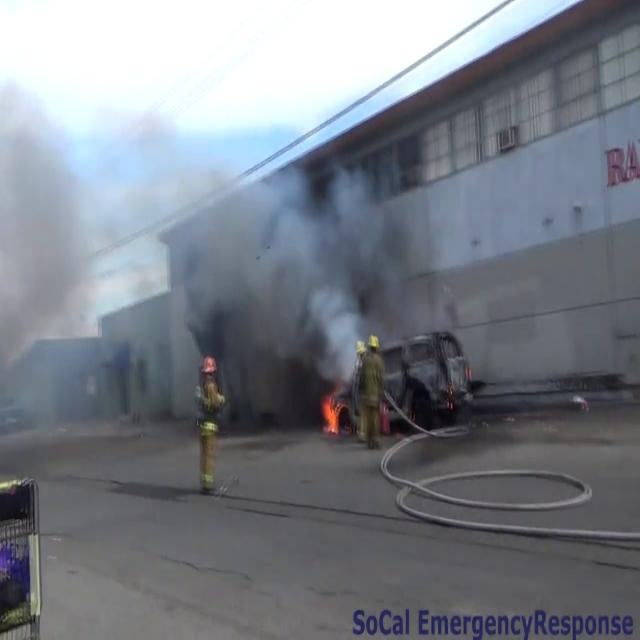Fire: (319, 388, 347, 439)
Smoke: (0, 104, 412, 434)
